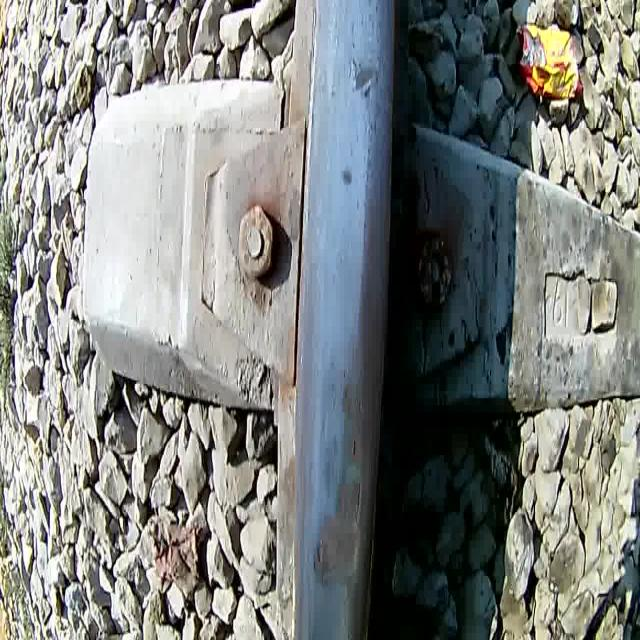Cracks: (350, 478, 364, 526), (349, 430, 359, 463)
Squats: (307, 474, 368, 594), (336, 370, 368, 472), (346, 49, 384, 104), (337, 158, 357, 195)
